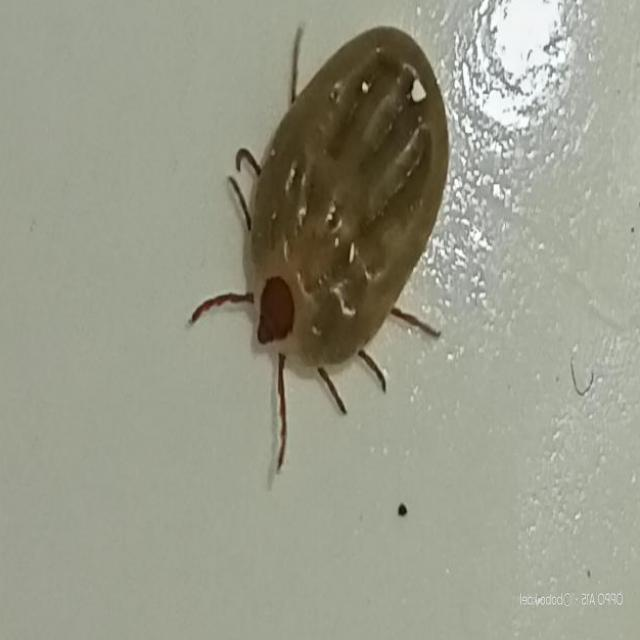Rhipicephalus Sanguineus-F-Fed: (192, 13, 451, 484)
